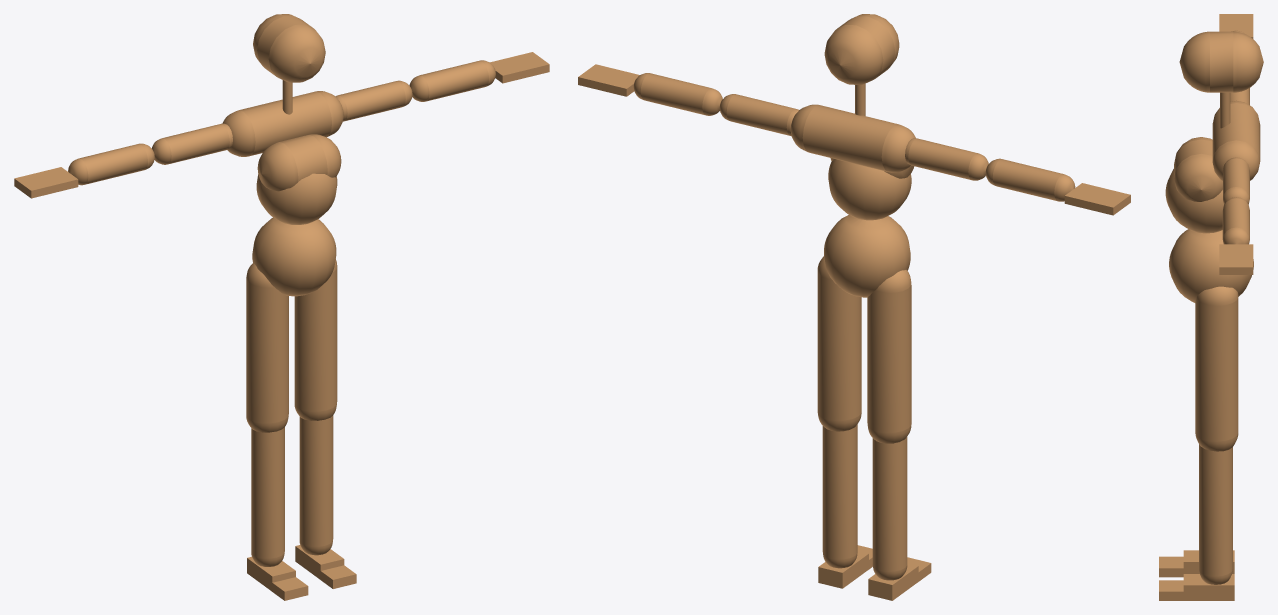
File: mujoco_ragdoll.fbx
3 renders of one model, left to right at view 1: azimuth 30°, elevation 25°; view 2: azimuth 150°, elevation 25°; view 3: azimuth 270°, elevation 25°, orthographic. The views are drawn at different scales.
Parts seen in each view (by area): view 1: RightUpLegGeom, LeftUpLegGeom, HipsGeom, Spine2Geom, LeftLegGeom, RightLegGeom, HeadGeom, Spine1Geom, SpineGeom, LeftForeArmGeom, RightForeArmGeom, RightArmGeom (+5 smaller); view 2: RightUpLegGeom, LeftUpLegGeom, Spine2Geom, HipsGeom, RightLegGeom, LeftLegGeom, HeadGeom, SpineGeom, LeftForeArmGeom, RightForeArmGeom, RightArmGeom, LeftArmGeom (+4 smaller); view 3: LeftUpLegGeom, LeftLegGeom, HeadGeom, HipsGeom, Spine2Geom, Spine1Geom, SpineGeom, LeftForeArmGeom, LeftFootGeom, LeftArmGeom, LeftHandGeom, RightHandGeom (+5 smaller).
Boxes of the visible parts, x1,y1,x2,y2 form: RightUpLegGeom: (246, 263, 288, 432); LeftUpLegGeom: (294, 259, 337, 420); HipsGeom: (252, 217, 336, 296); Spine2Geom: (222, 91, 343, 156); LeftLegGeom: (299, 415, 333, 555); RightLegGeom: (251, 427, 284, 566); HeadGeom: (253, 14, 325, 82); Spine1Geom: (257, 134, 341, 191); SpineGeom: (256, 173, 337, 224); LeftForeArmGeom: (409, 60, 495, 101); RightForeArmGeom: (68, 143, 154, 185); RightArmGeom: (152, 123, 232, 164); RightUpLegGeom: (867, 269, 911, 443); LeftUpLegGeom: (817, 256, 861, 431); Spine2Geom: (790, 104, 915, 172); HipsGeom: (824, 215, 910, 297); RightLegGeom: (872, 437, 907, 580); LeftLegGeom: (822, 424, 857, 568); HeadGeom: (824, 14, 899, 84); SpineGeom: (828, 159, 911, 220); LeftForeArmGeom: (633, 73, 722, 115); RightForeArmGeom: (985, 158, 1075, 201); RightArmGeom: (905, 138, 988, 180); LeftArmGeom: (719, 94, 798, 136); LeftUpLegGeom: (1195, 286, 1238, 451); LeftLegGeom: (1199, 444, 1232, 584); HeadGeom: (1179, 31, 1263, 92); HipsGeom: (1169, 229, 1253, 302); Spine2Geom: (1212, 100, 1260, 180); Spine1Geom: (1174, 137, 1222, 201); SpineGeom: (1165, 169, 1223, 233); LeftForeArmGeom: (1222, 197, 1249, 244); LeftFootGeom: (1183, 574, 1234, 600); LeftArmGeom: (1223, 157, 1249, 204); LeftHandGeom: (1219, 244, 1253, 274); RightHandGeom: (1219, 14, 1253, 38).
Bounding box in the file's own units: 176 × 178 × 30.8.
